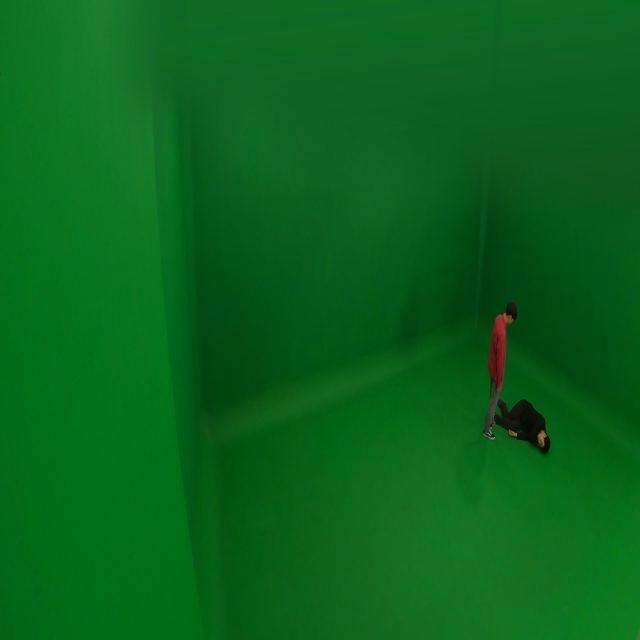fight: (480, 299, 560, 452)
